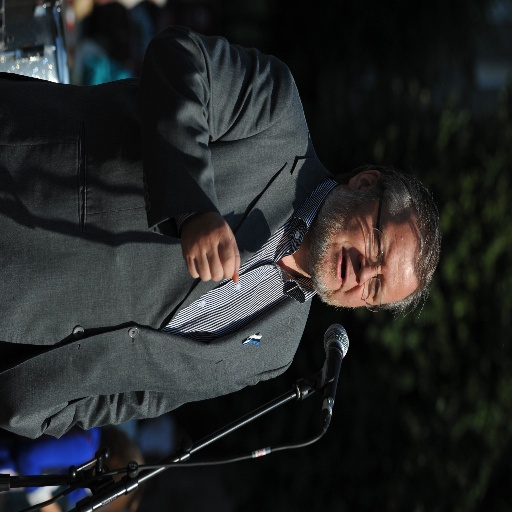hand: (177, 198, 244, 298)
